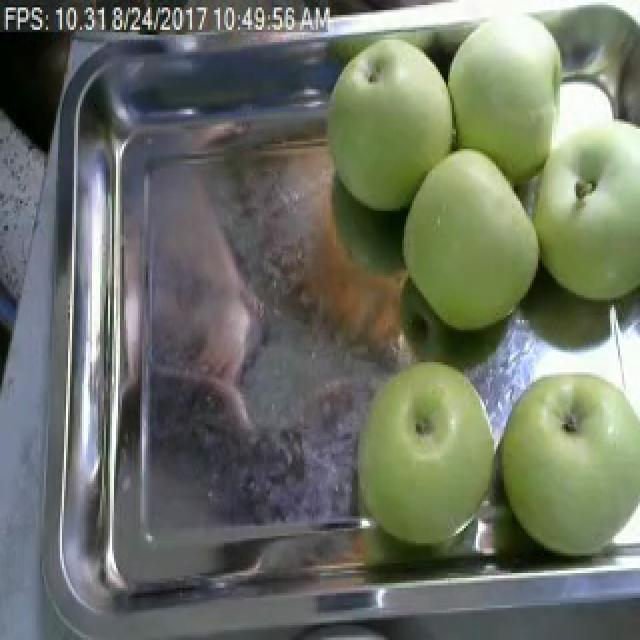50-_ripeness: (351, 350, 502, 560), (498, 369, 640, 571), (316, 16, 454, 208), (405, 144, 529, 350), (446, 0, 575, 172), (540, 121, 640, 301)
